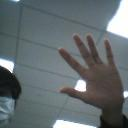hand: (56, 32, 124, 108)
